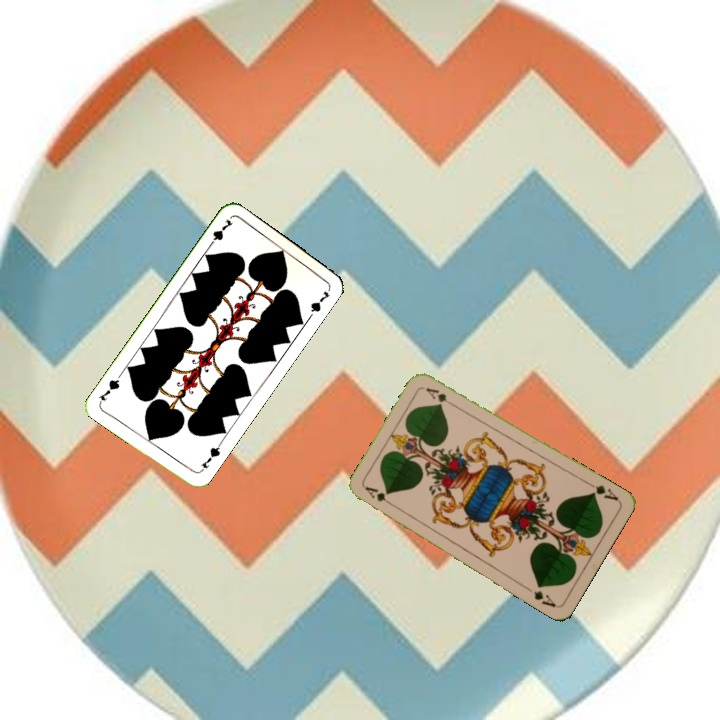G7: (204, 214, 236, 250), (196, 439, 224, 475)
GA: (361, 482, 398, 510), (584, 478, 621, 504)
